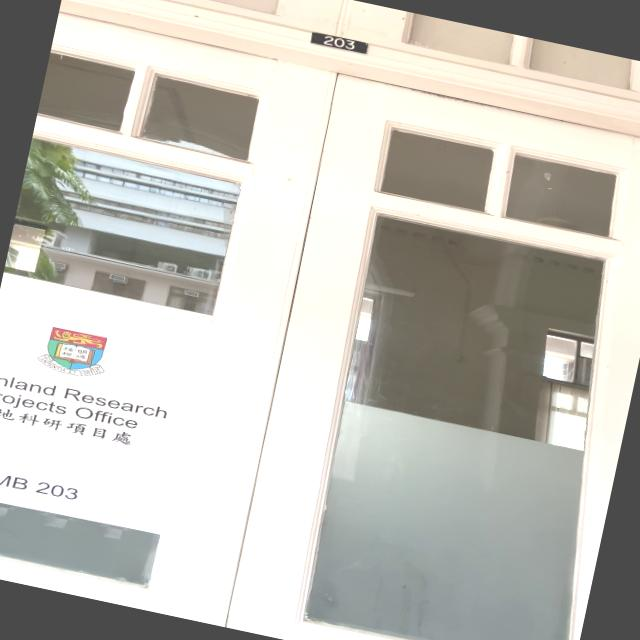room203: (288, 20, 388, 64)
room203Window: (0, 463, 91, 508)
